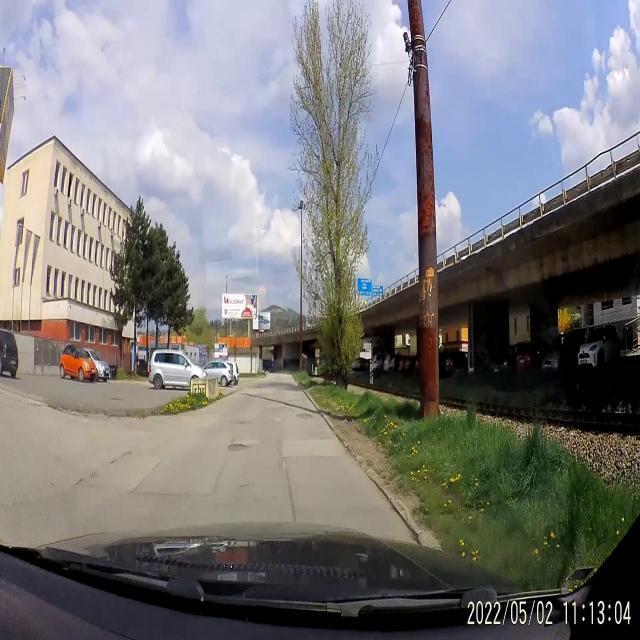Pothole: (75, 463, 103, 492), (110, 446, 134, 470), (226, 437, 250, 453), (294, 409, 316, 424), (237, 416, 256, 428)
